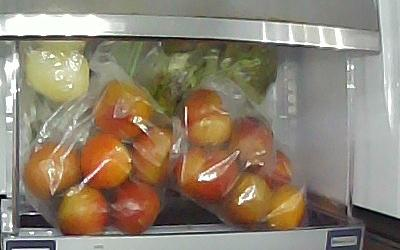prune_vinyl: (94, 79, 155, 140), (178, 146, 239, 201), (24, 144, 82, 198), (180, 89, 232, 147), (107, 181, 162, 235), (219, 172, 272, 226), (131, 126, 178, 186), (79, 135, 131, 188), (57, 185, 108, 236), (230, 116, 277, 169), (268, 184, 307, 230), (255, 149, 292, 185)
